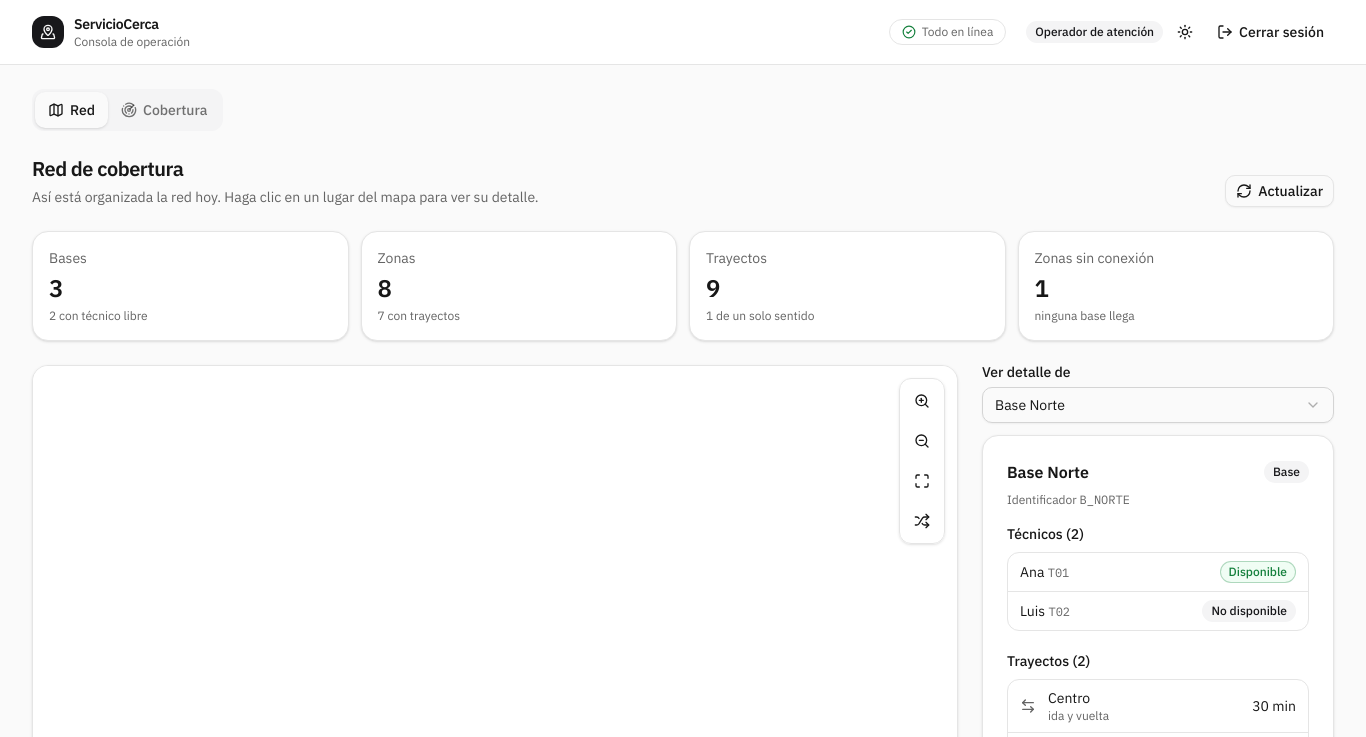
Scenario: pestaña Red › elegir un lugar en la lista lo resalta en el mapa y muestra sus avisos
Expected: the heading "Red de cobertura" is shown, [32,155,183,182]
Step 1. Click the dropdown named "Ver detalle de" → (1030, 405), box [982,387,1334,423]
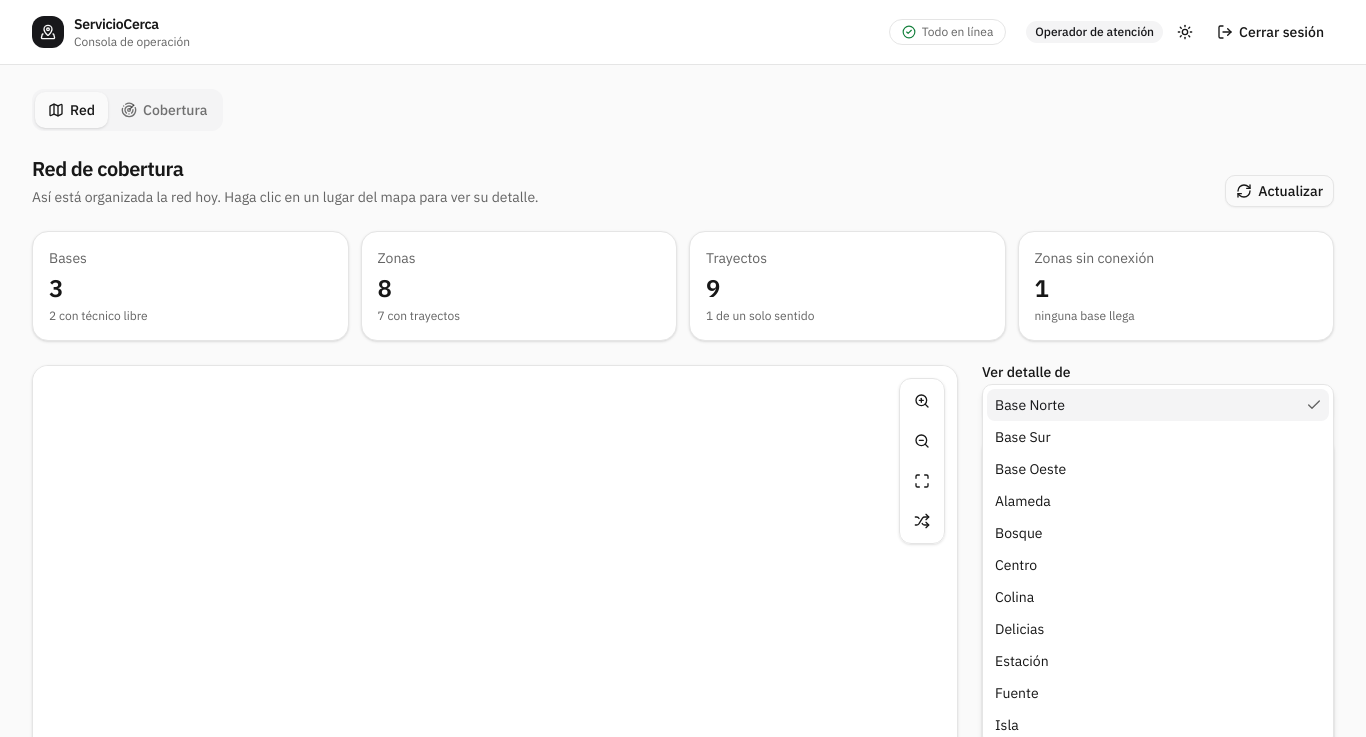
Step 2. Click the option "Base Oeste" → (1031, 469), box [995,460,1066,478]
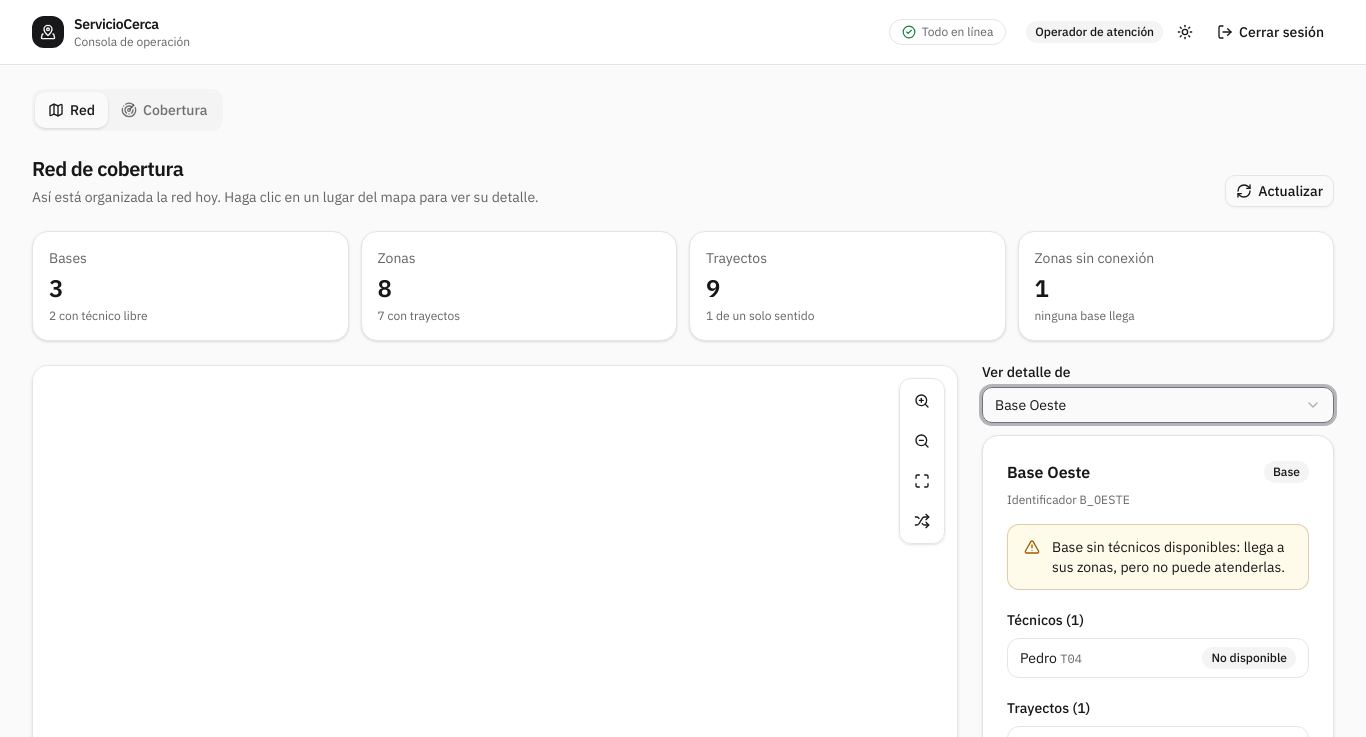
Expected: the text "Base sin técnicos disponibles: llega a sus zonas" is shown, [1052,538,1285,576]
